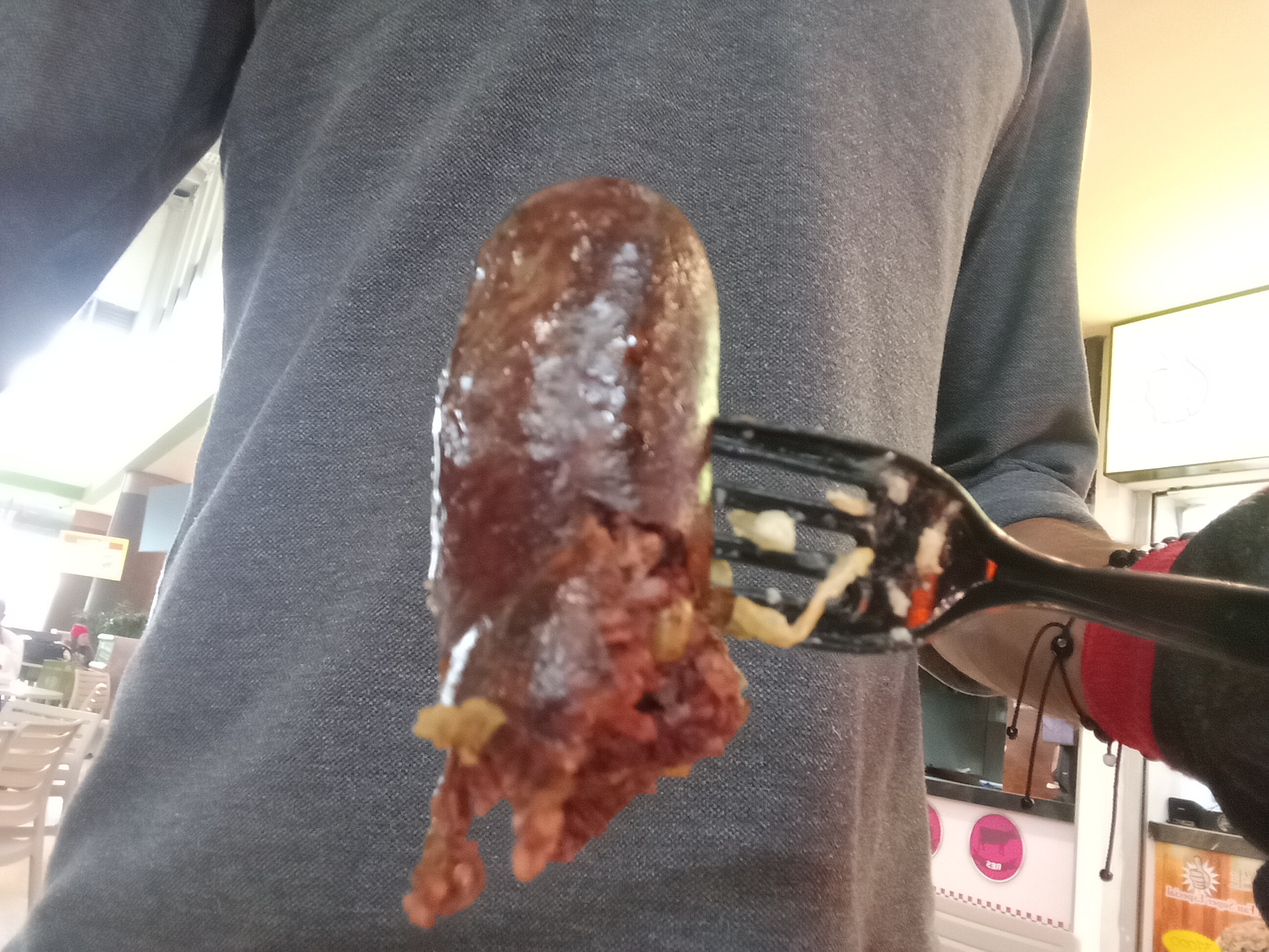Organico: (408, 175, 755, 929)
